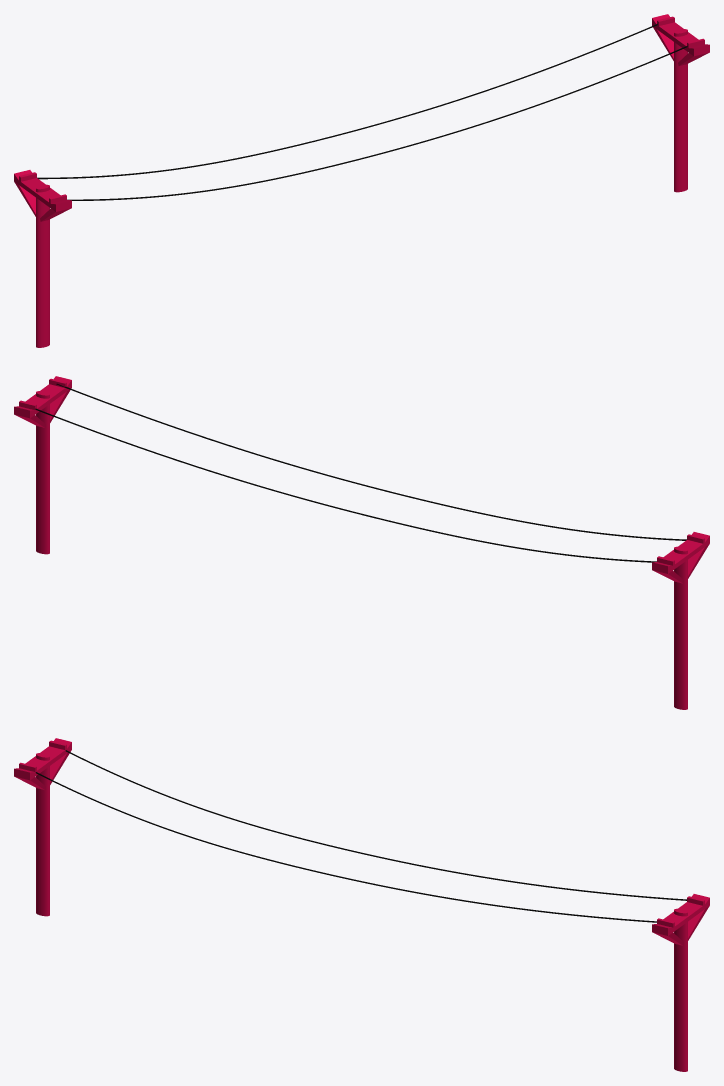
Rendered from direk.fbx.
3 views of the same model, one above another, from view 1: azimuth 30°, elevation 25°; view 2: azimuth 150°, elevation 25°; view 3: azimuth 330°, elevation 25° (orthographic).
Parts seen in each view (by area): view 1: Cylinder.001, Cylinder, NurbsPath.001, NurbsPath; view 2: Cylinder.001, Cylinder, NurbsPath, NurbsPath.001; view 3: Cylinder, Cylinder.001, NurbsPath.001, NurbsPath.
Boxes of the visible parts, bbox=[...] form: Cylinder.001: bbox=[14, 170, 71, 347]; Cylinder: bbox=[652, 14, 709, 192]; NurbsPath.001: bbox=[37, 24, 657, 179]; NurbsPath: bbox=[67, 46, 687, 200]; Cylinder.001: bbox=[652, 532, 709, 709]; Cylinder: bbox=[14, 376, 71, 554]; NurbsPath: bbox=[56, 383, 686, 540]; NurbsPath.001: bbox=[35, 408, 656, 562]; Cylinder: bbox=[652, 894, 709, 1071]; Cylinder.001: bbox=[14, 738, 71, 916]; NurbsPath.001: bbox=[65, 750, 686, 900]; NurbsPath: bbox=[35, 772, 656, 922].
Bounding box in the file's own units: 1732 × 404 × 192.
